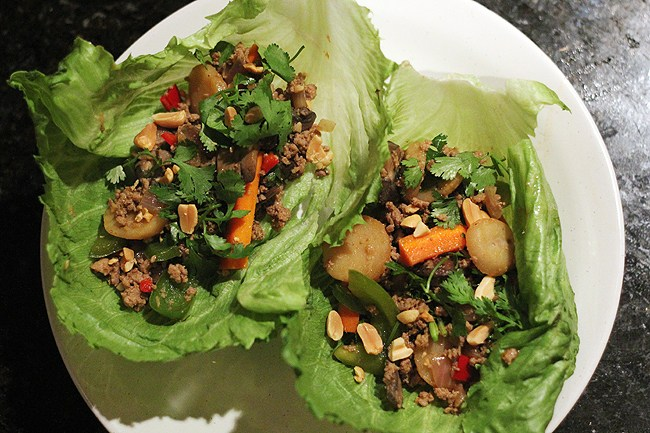chopped lettuce: (305, 4, 534, 161), (290, 322, 573, 433), (33, 64, 120, 318)
